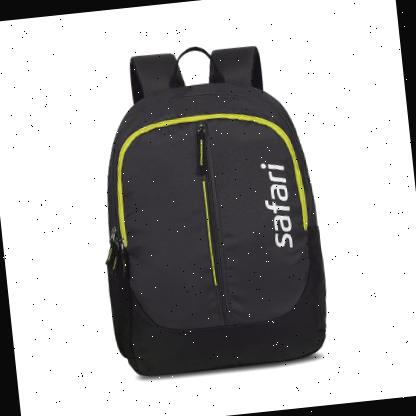bag: (78, 32, 339, 386)
